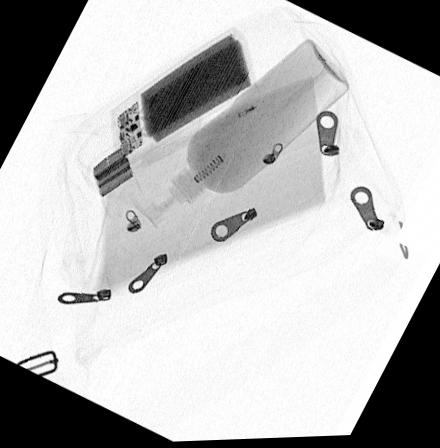Powerbank: (110, 31, 256, 164)
